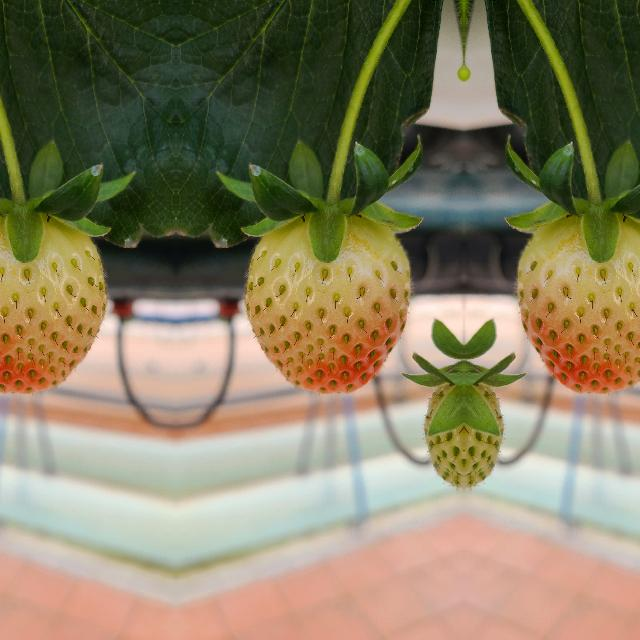Health_25: (422, 384, 462, 490), (464, 384, 504, 490)
Health_50: (244, 215, 410, 393), (516, 215, 640, 393), (0, 215, 106, 393)
